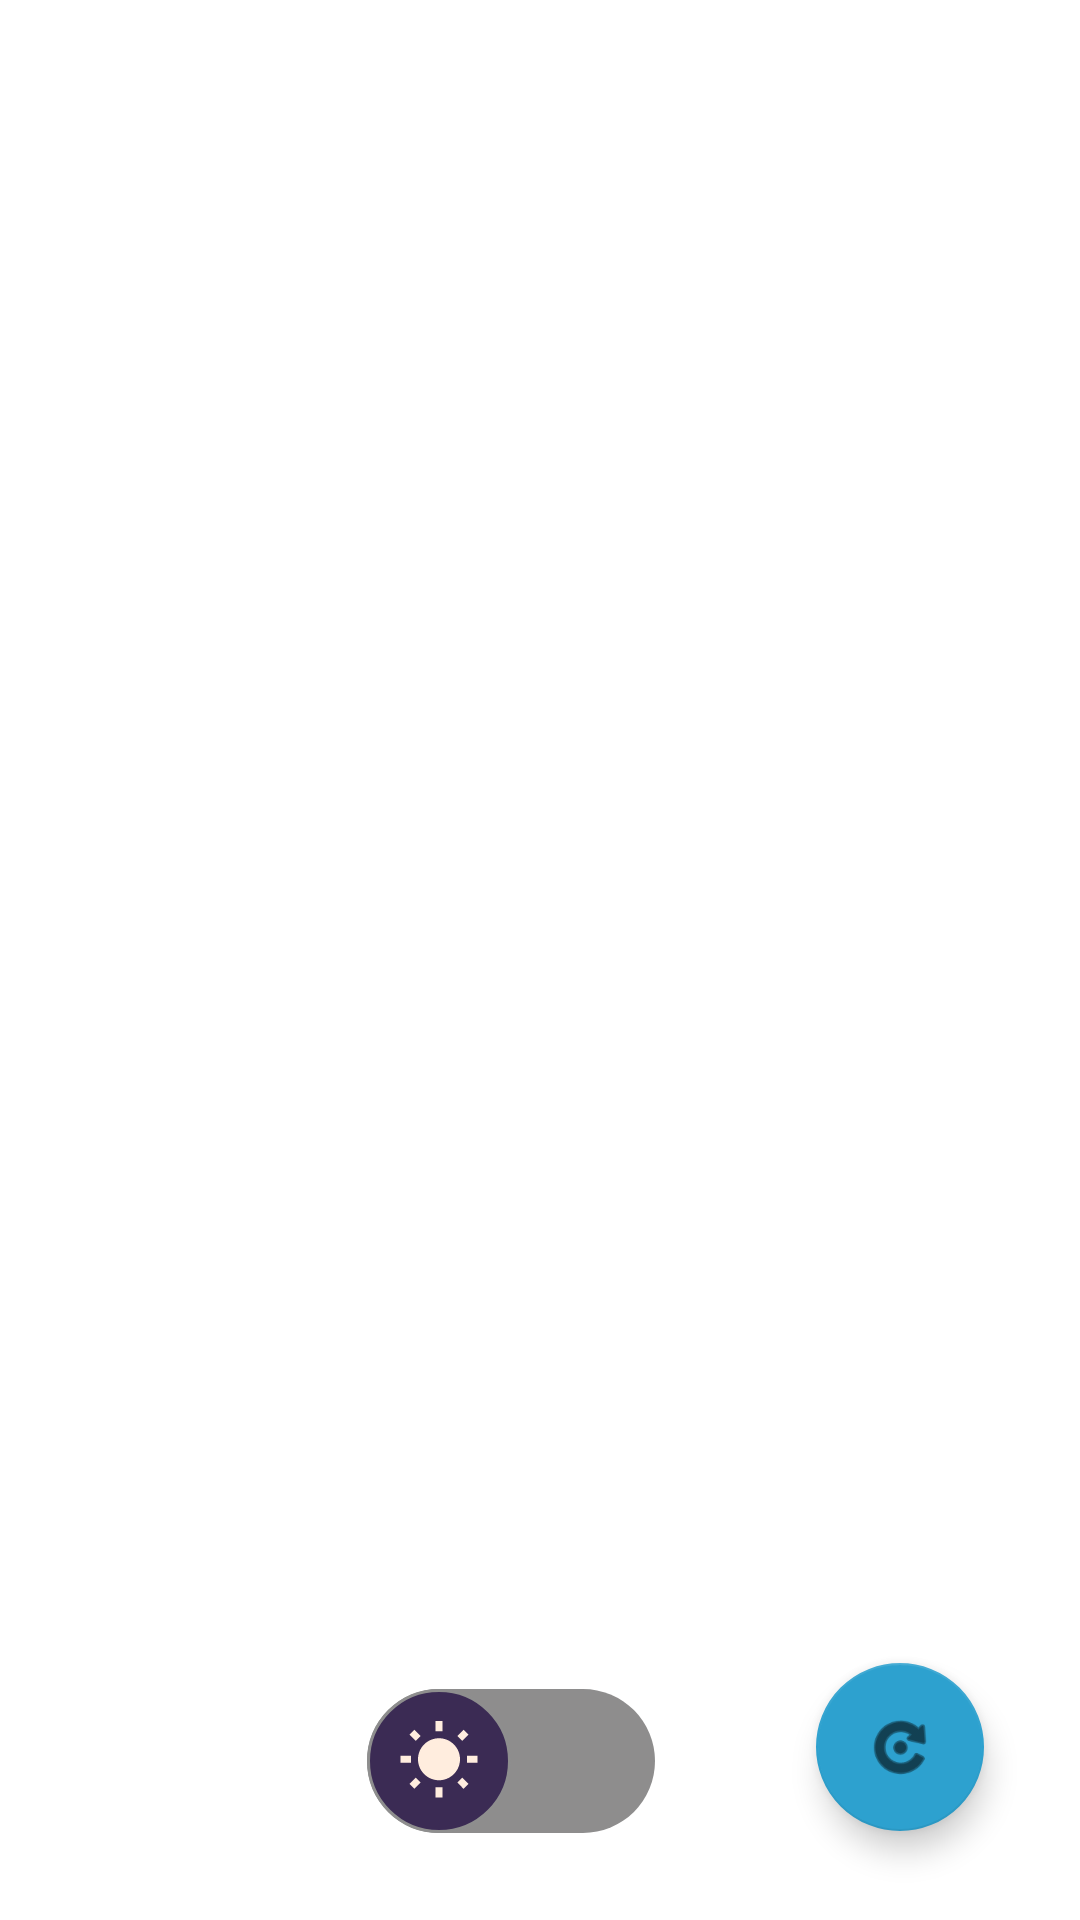

Screen size 1080 × 1920. Icon name, then its box in pixels as {"left": x1, "top": y1, "right": x2, "bottom": y2}:
rotate: {"left": 816, "top": 1663, "right": 984, "bottom": 1831}
